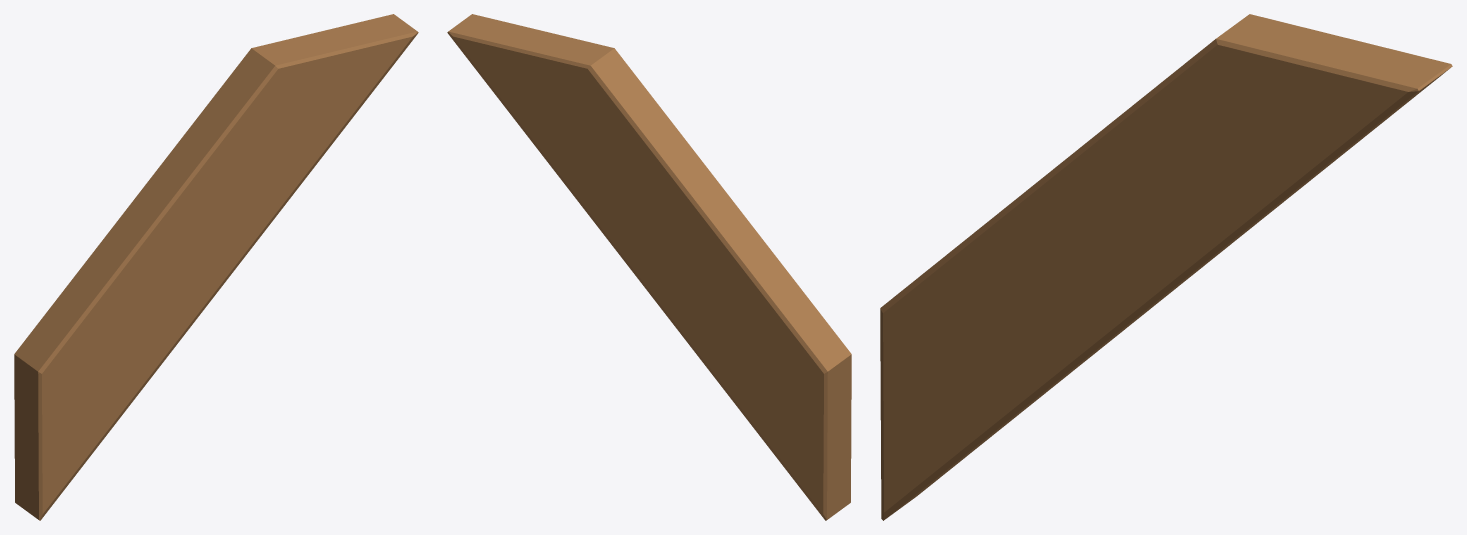
The model's file is Plank angled small 1.fbx.
3 renders of one model, left to right at view 1: azimuth 30°, elevation 25°; view 2: azimuth 150°, elevation 25°; view 3: azimuth 330°, elevation 25°, orthographic. The views are drawn at different scales.
Parts seen in each view (by area): view 1: Wooden_plank_angle3; view 2: Wooden_plank_angle3; view 3: Wooden_plank_angle3.
Part boxes in pixels (bbox=[...]): Wooden_plank_angle3: bbox=[14, 14, 418, 520]; Wooden_plank_angle3: bbox=[447, 14, 851, 520]; Wooden_plank_angle3: bbox=[880, 14, 1452, 520].
Bounding box in the file's own units: 160 × 160 × 18.7.
